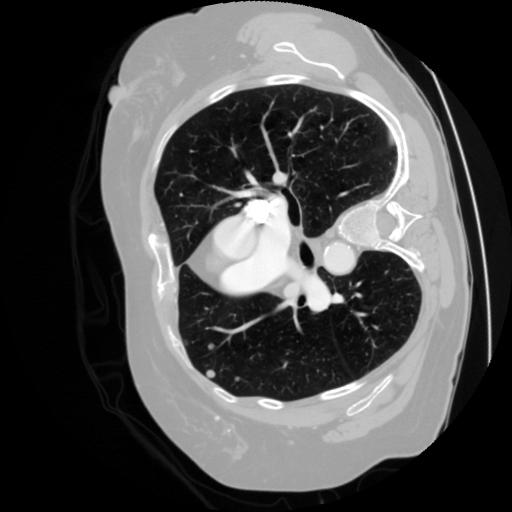nodule: (202, 364, 218, 380)
